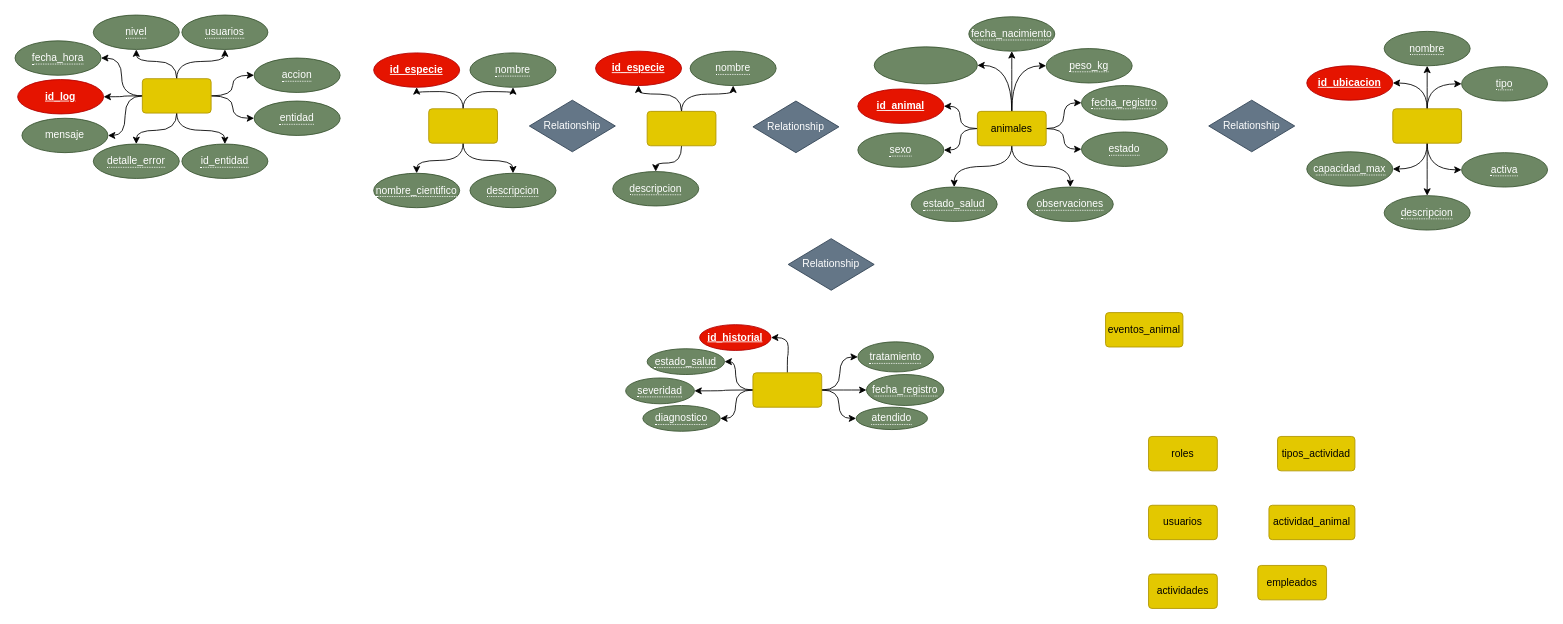
The diagram is 1563 pixels wide and 624 high, and some of its shapes have lost their labels. Each missing label, with the box of its shape:
especies: (428, 108, 498, 143)
historial_salud: (752, 372, 822, 407)
identificador_unico: (873, 46, 977, 84)
log_sistema: (141, 78, 211, 113)
razas: (646, 111, 716, 146)
ubicaciones: (1392, 108, 1462, 143)
